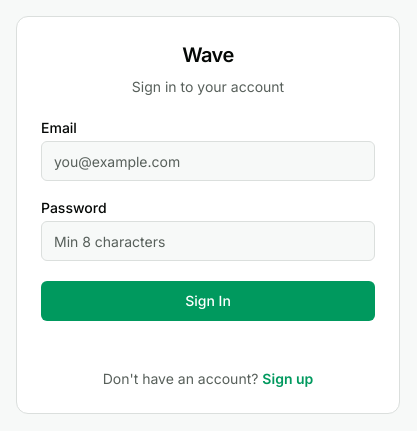
Test: AuthPage › disables submit button while loading
Type "test@example.com" into the field labelled "Email" at (208, 161), box top-left (41, 141), bottom-right (375, 181)
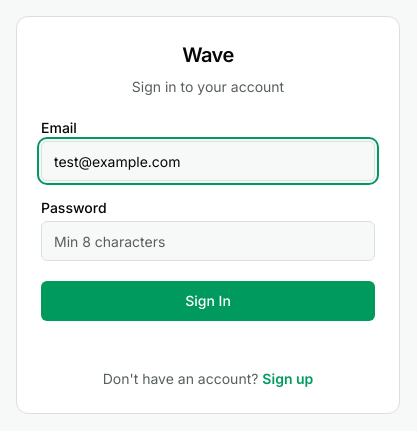
Type "password123" into the password field labelled "Password" at (208, 241), box top-left (41, 221), bottom-right (375, 261)
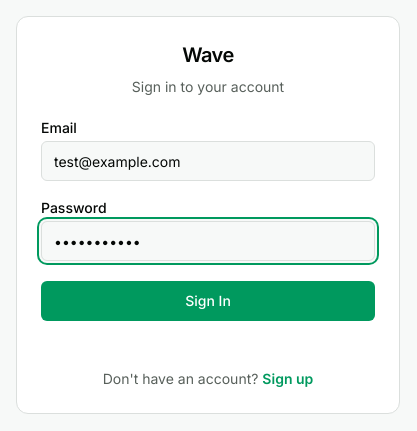
Click the button "Sign In" at (208, 301), box top-left (41, 281), bottom-right (375, 321)
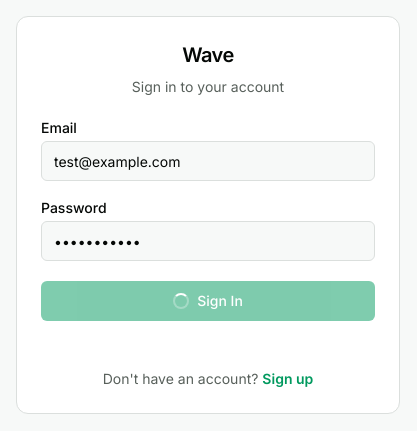
Result: the button "Sign In" is disabled at top-left (41, 281), bottom-right (375, 321)
